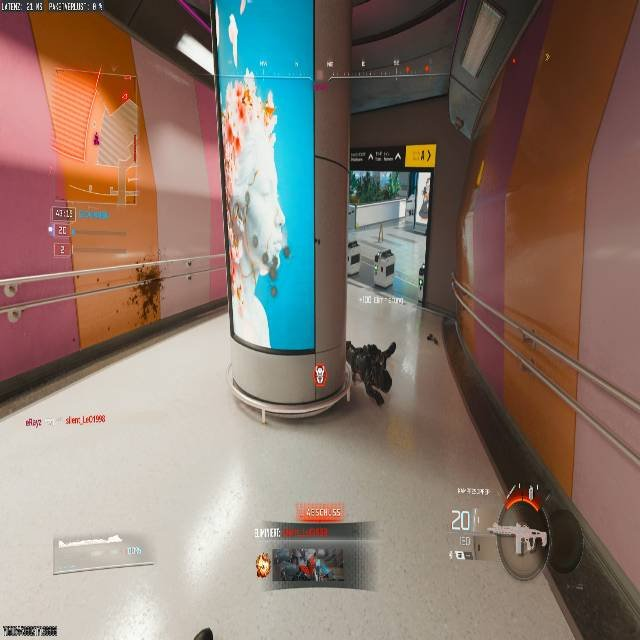player: (132, 265, 162, 320)
